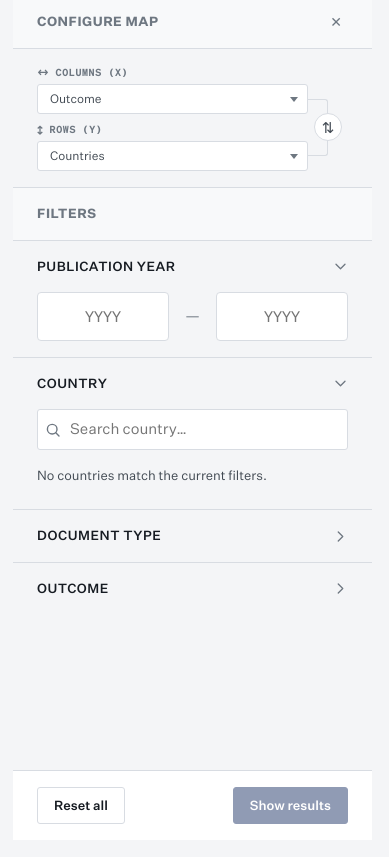
MapConfigPanel › Reset all restores the community default axes, not the applied axes
Check: the dropdown labelled "Rows (y)" shows "Countries", box top-left (37, 141), bottom-right (308, 171)
Click the button "Reset all". click: (81, 805)
box: top-left (37, 786), bottom-right (125, 824)
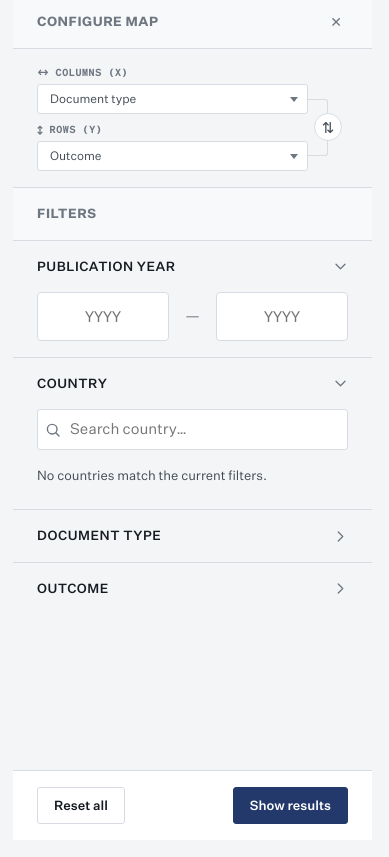
Check: the dropdown labelled "Rows (y)" shows "Outcome", box top-left (37, 141), bottom-right (308, 171)
Check: the dropdown labelled "Columns (x)" shows "Document type", box top-left (37, 84), bottom-right (308, 114)
Check: the button "Show results" is enabled, box top-left (233, 786), bottom-right (348, 824)
